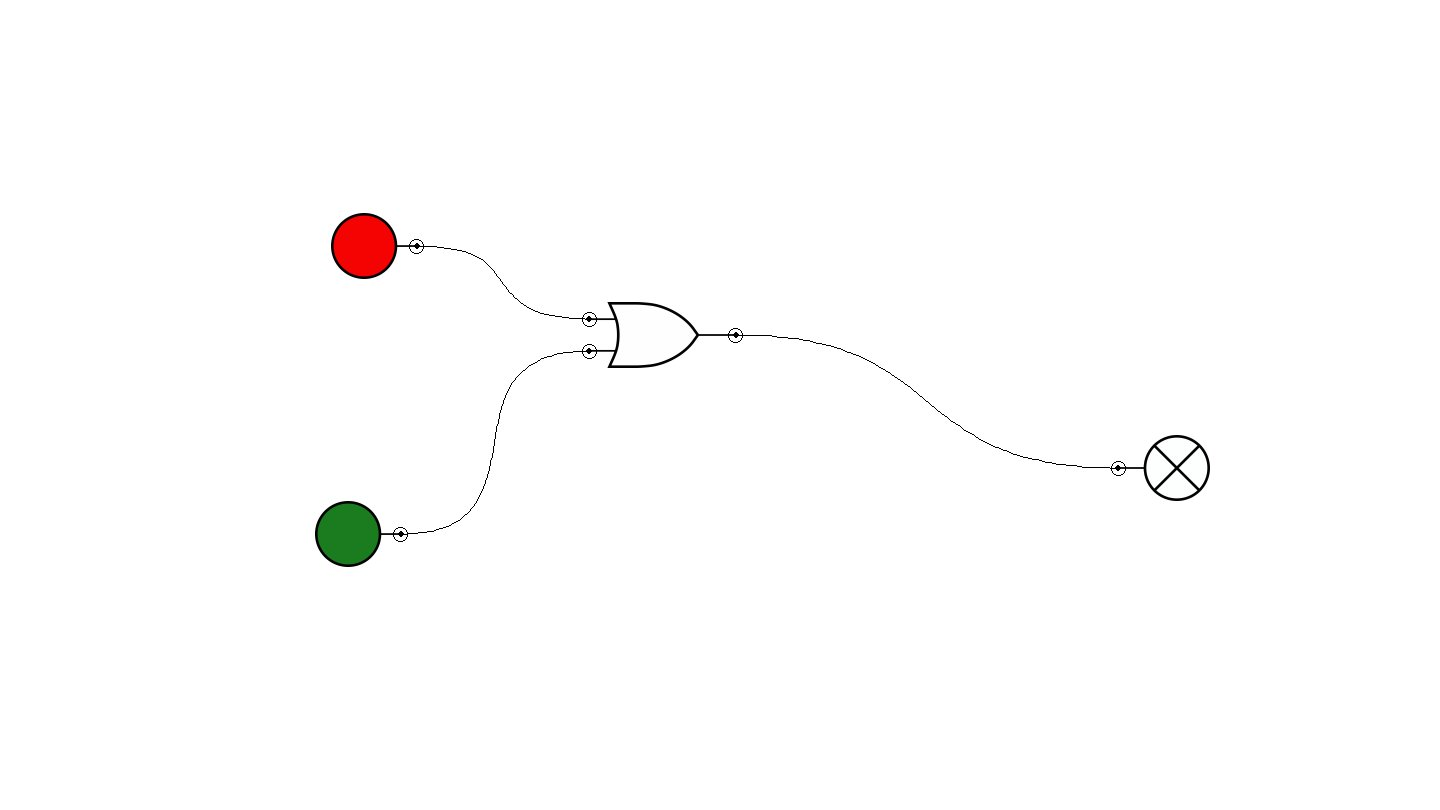bulb: (1111, 435, 1210, 501)
or: (582, 302, 743, 368)
switch_False: (331, 213, 424, 279)
switch_True: (315, 501, 408, 567)
